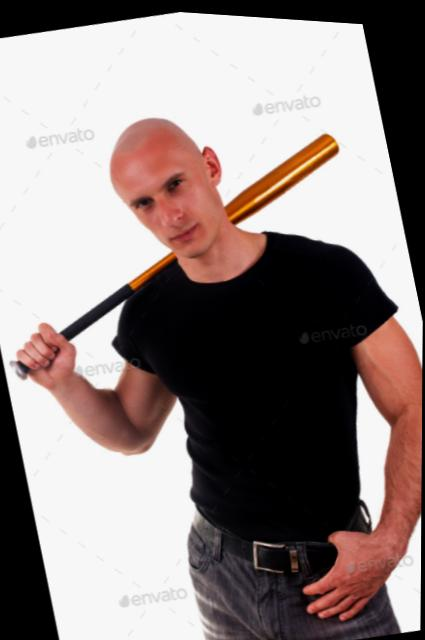baseball bat: (0, 108, 375, 403)
